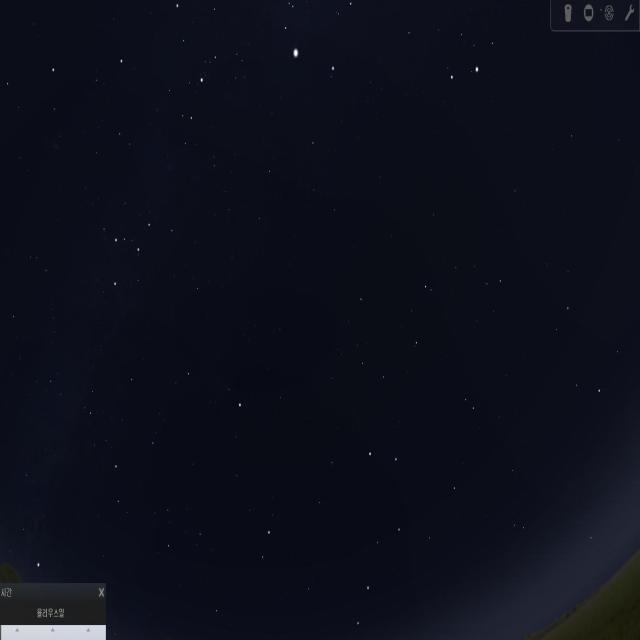ursa_major: (348, 441, 418, 640)
